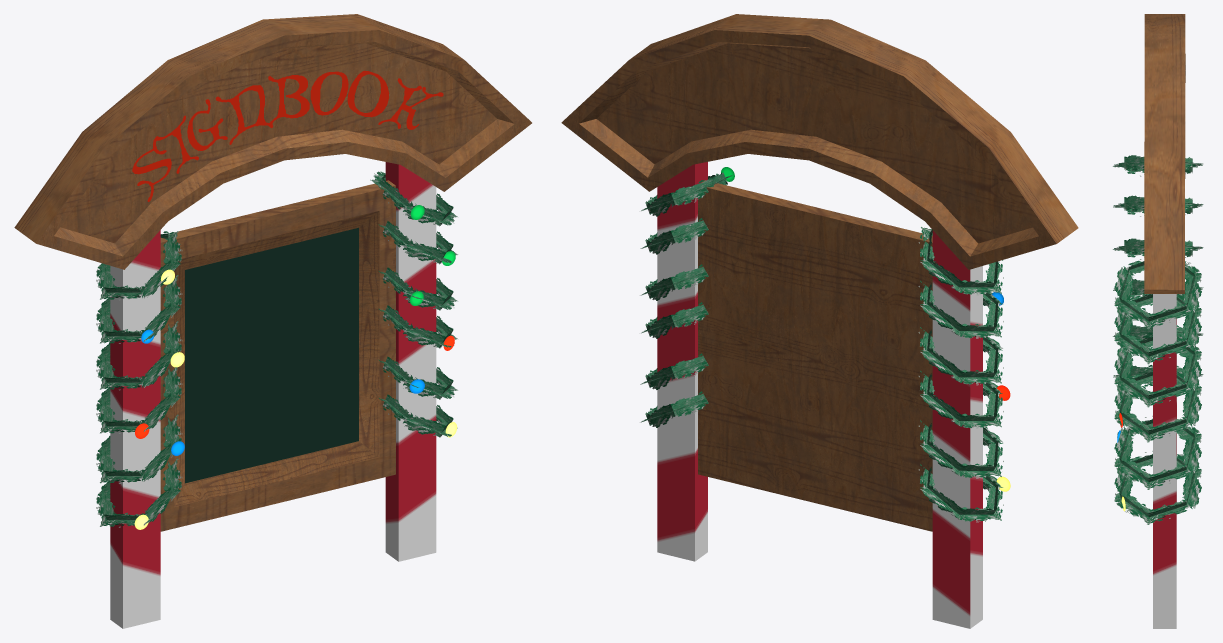
Rendered from SignbookPanel01_Art.fbx.
The picture shows the model from 3 angles, left to right: view 1: azimuth 30°, elevation 25°; view 2: azimuth 150°, elevation 25°; view 3: azimuth 270°, elevation 25°; orthographic projection. The views are drawn at different scales.
Visible parts, largest first — view 1: SignbookPanel01_Art; view 2: SignbookPanel01_Art; view 3: SignbookPanel01_Art.
Boxes of the visible parts, x1,y1,x2,y2 form: SignbookPanel01_Art: (14,14,531,628); SignbookPanel01_Art: (561,14,1078,628); SignbookPanel01_Art: (1113,14,1203,628).
Bounding box in the file's own units: 2.86 × 3.08 × 0.5453.
